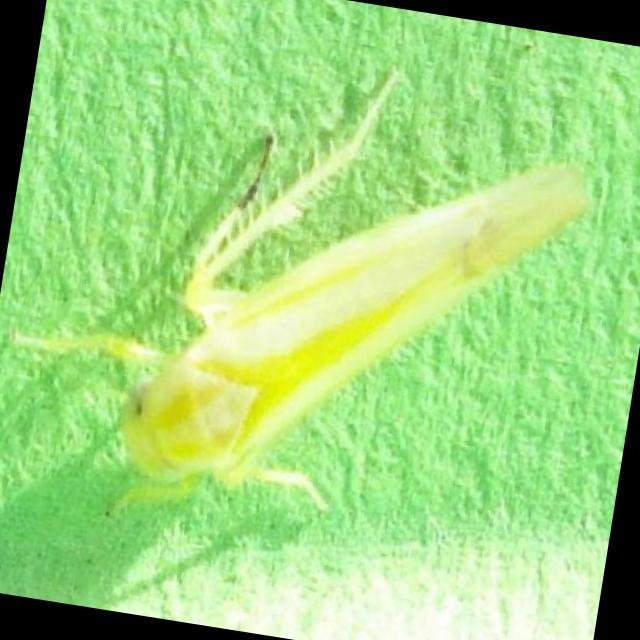green-leafhopper: (110, 168, 595, 495)
